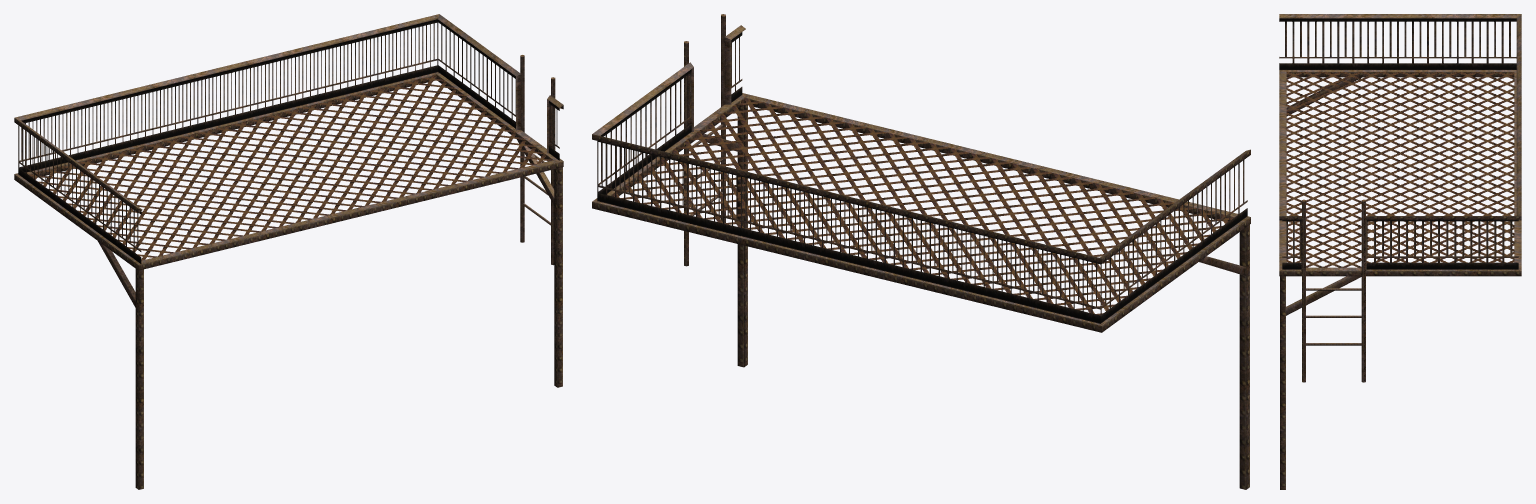
Rendered from fire_escape_bottom_short.fbx.
3 renders of one model, left to right at view 1: azimuth 30°, elevation 25°; view 2: azimuth 150°, elevation 25°; view 3: azimuth 270°, elevation 25°, orthographic. The views are drawn at different scales.
Visible parts, largest first — view 1: mesh_0, mesh_1; view 2: mesh_0, mesh_1; view 3: mesh_1, mesh_0.
Boxes of the visible parts, x1,y1,x2,y2 form: mesh_0: (14, 14, 563, 489); mesh_1: (28, 74, 553, 260); mesh_0: (592, 14, 1250, 489); mesh_1: (613, 98, 1233, 315); mesh_1: (1286, 72, 1514, 267); mesh_0: (1279, 14, 1521, 489).
Bounding box in the file's own units: 798 × 530 × 400.
2 materials, 2 textured.
